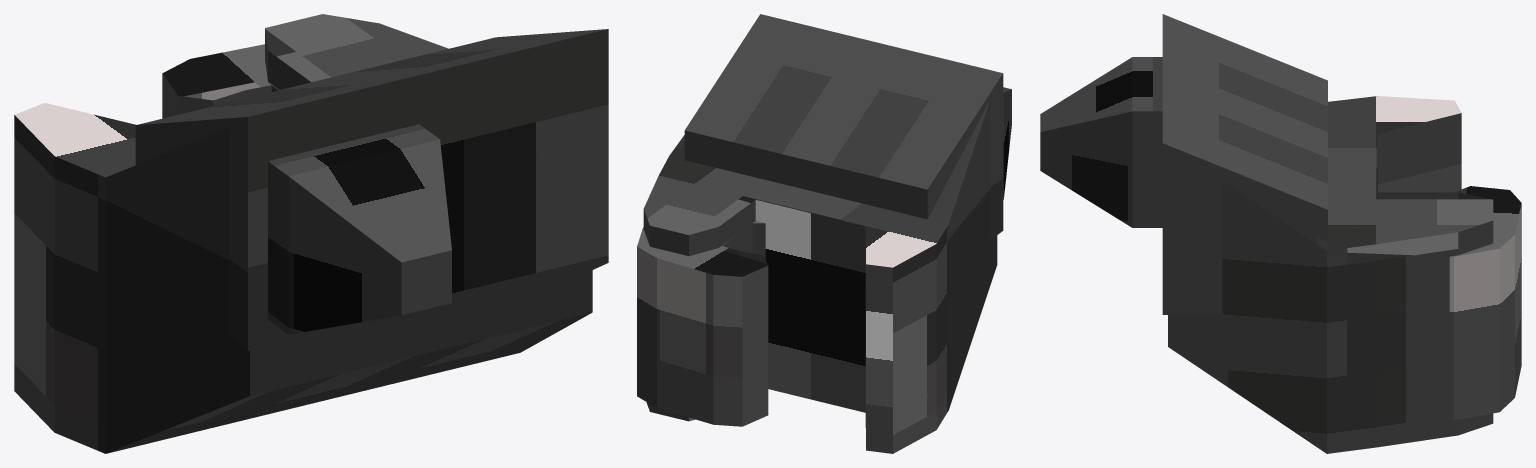
The model's file is closed.obj.
3 renders of one model, left to right at view 1: azimuth 30°, elevation 25°; view 2: azimuth 150°, elevation 25°; view 3: azimuth 270°, elevation 25°, orthographic. The views are drawn at different scales.
Visible parts, largest first — view 1: 钩体_f61a0c44-d7ee-8ce1-d8b5-9a295fa28971, 半自动车钩_63a3cd7c-34e2-bc75-221c-d4ca680ee123, 车钩钩体_b3c9ce77-9921-68c7-38e2-7ab1e3f3baa4, 钩舌_e12a83f9-ca40-f5f9-0e50-29789b69e8d5; view 2: 钩体_f61a0c44-d7ee-8ce1-d8b5-9a295fa28971, 半自动车钩_63a3cd7c-34e2-bc75-221c-d4ca680ee123, 钩舌_e12a83f9-ca40-f5f9-0e50-29789b69e8d5, 车钩钩体_b3c9ce77-9921-68c7-38e2-7ab1e3f3baa4; view 3: 钩体_f61a0c44-d7ee-8ce1-d8b5-9a295fa28971, 半自动车钩_63a3cd7c-34e2-bc75-221c-d4ca680ee123, 车钩钩体_b3c9ce77-9921-68c7-38e2-7ab1e3f3baa4, 钩舌_e12a83f9-ca40-f5f9-0e50-29789b69e8d5.
Part boxes in pixels (left/top/right/bottom): 钩体_f61a0c44-d7ee-8ce1-d8b5-9a295fa28971: left=14, top=14, right=592, bottom=453; 半自动车钩_63a3cd7c-34e2-bc75-221c-d4ca680ee123: left=135, top=29, right=608, bottom=350; 车钩钩体_b3c9ce77-9921-68c7-38e2-7ab1e3f3baa4: left=268, top=124, right=451, bottom=334; 钩舌_e12a83f9-ca40-f5f9-0e50-29789b69e8d5: left=162, top=44, right=330, bottom=118; 钩体_f61a0c44-d7ee-8ce1-d8b5-9a295fa28971: left=643, top=100, right=997, bottom=453; 半自动车钩_63a3cd7c-34e2-bc75-221c-d4ca680ee123: left=684, top=14, right=1003, bottom=239; 钩舌_e12a83f9-ca40-f5f9-0e50-29789b69e8d5: left=637, top=199, right=768, bottom=426; 车钩钩体_b3c9ce77-9921-68c7-38e2-7ab1e3f3baa4: left=1003, top=87, right=1011, bottom=199; 钩体_f61a0c44-d7ee-8ce1-d8b5-9a295fa28971: left=1168, top=96, right=1493, bottom=453; 半自动车钩_63a3cd7c-34e2-bc75-221c-d4ca680ee123: left=1162, top=14, right=1327, bottom=314; 车钩钩体_b3c9ce77-9921-68c7-38e2-7ab1e3f3baa4: left=1040, top=57, right=1162, bottom=227; 钩舌_e12a83f9-ca40-f5f9-0e50-29789b69e8d5: left=1347, top=186, right=1521, bottom=420.
Size of the model in its own units: 0.374 by 0.3407 by 0.4915.
